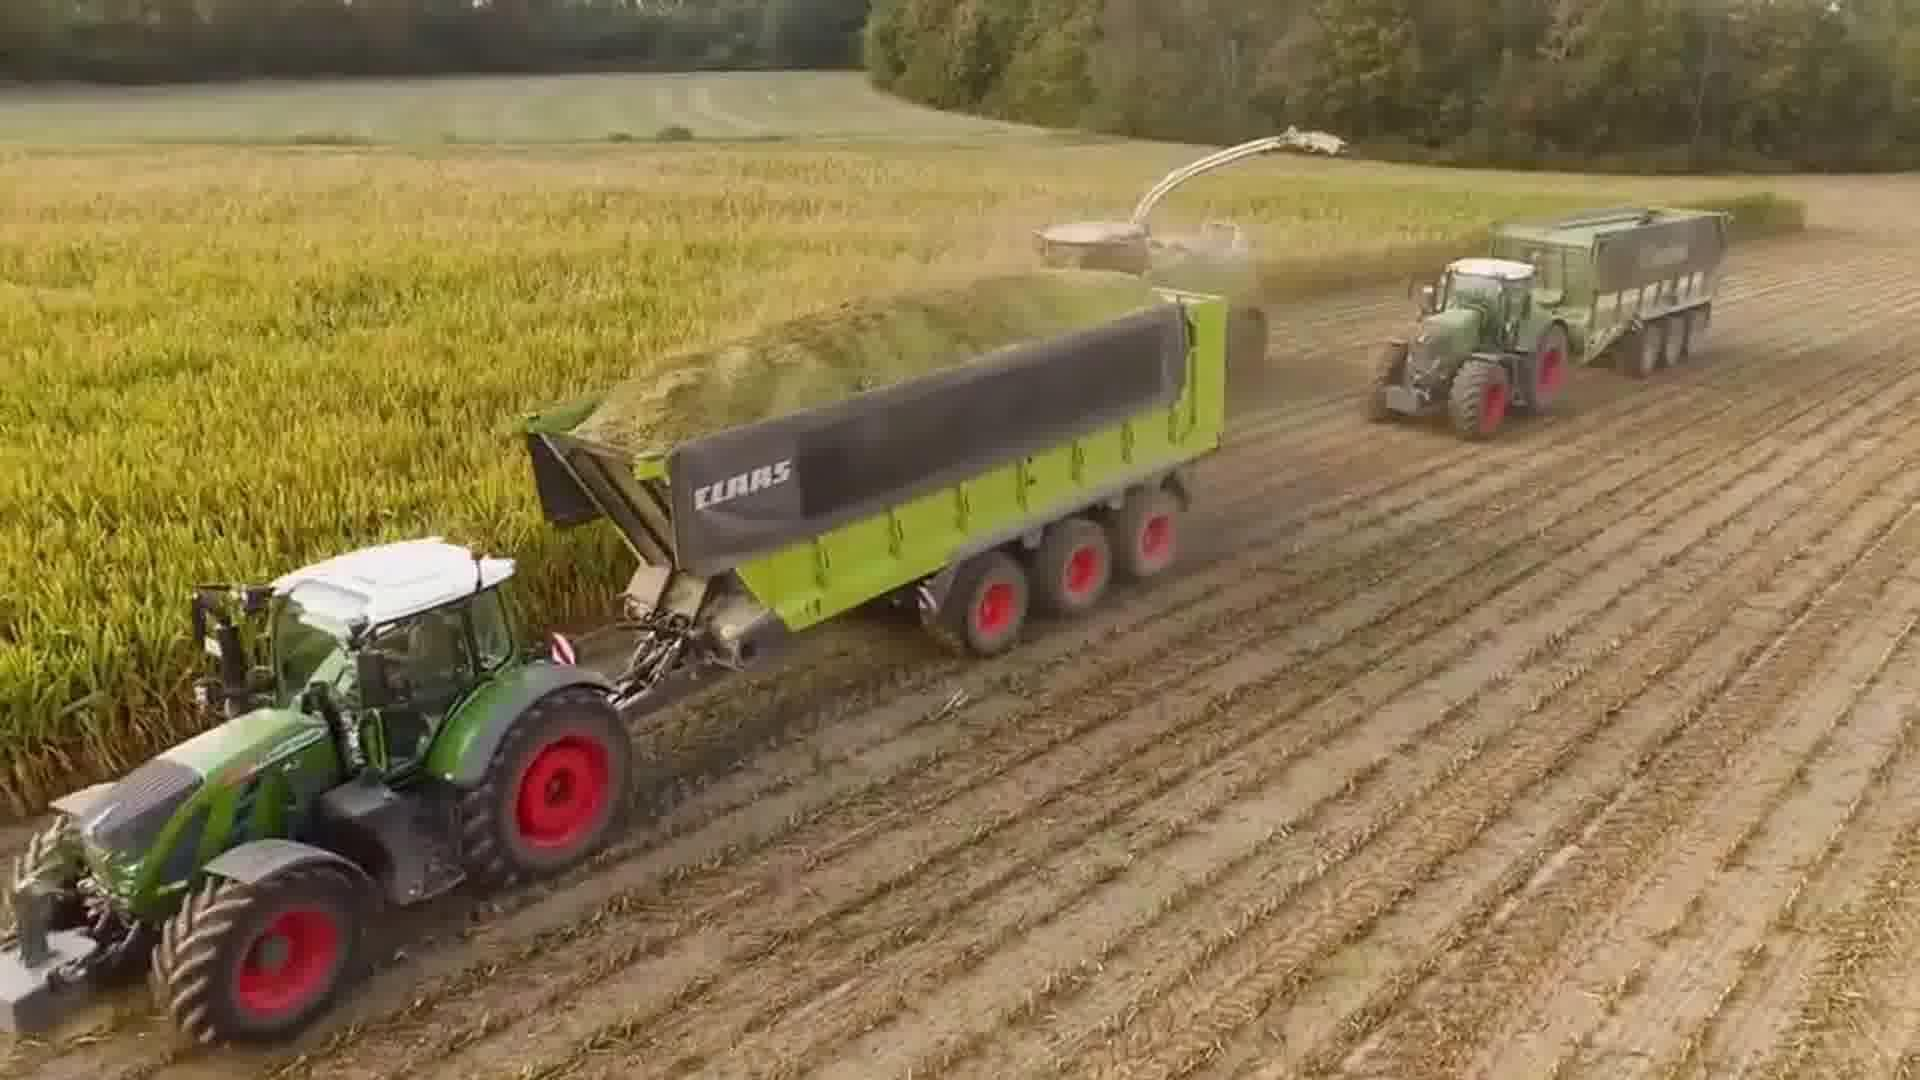combine harvester: (1025, 120, 1354, 371)
tractor: (0, 526, 649, 1054), (1361, 253, 1577, 439)
trailer: (516, 257, 1237, 667), (1489, 193, 1746, 376)
